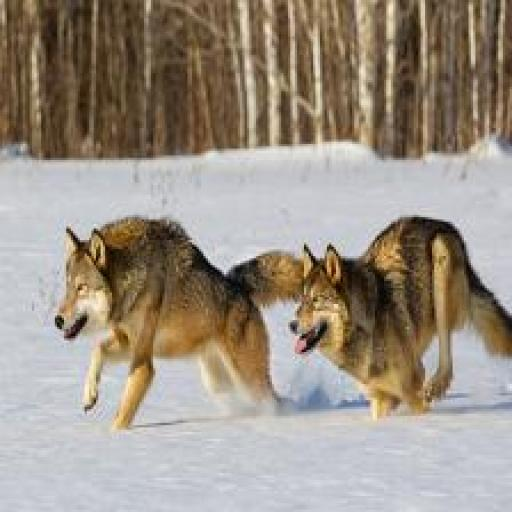wolf: (285, 134, 512, 484), (25, 135, 276, 451)
